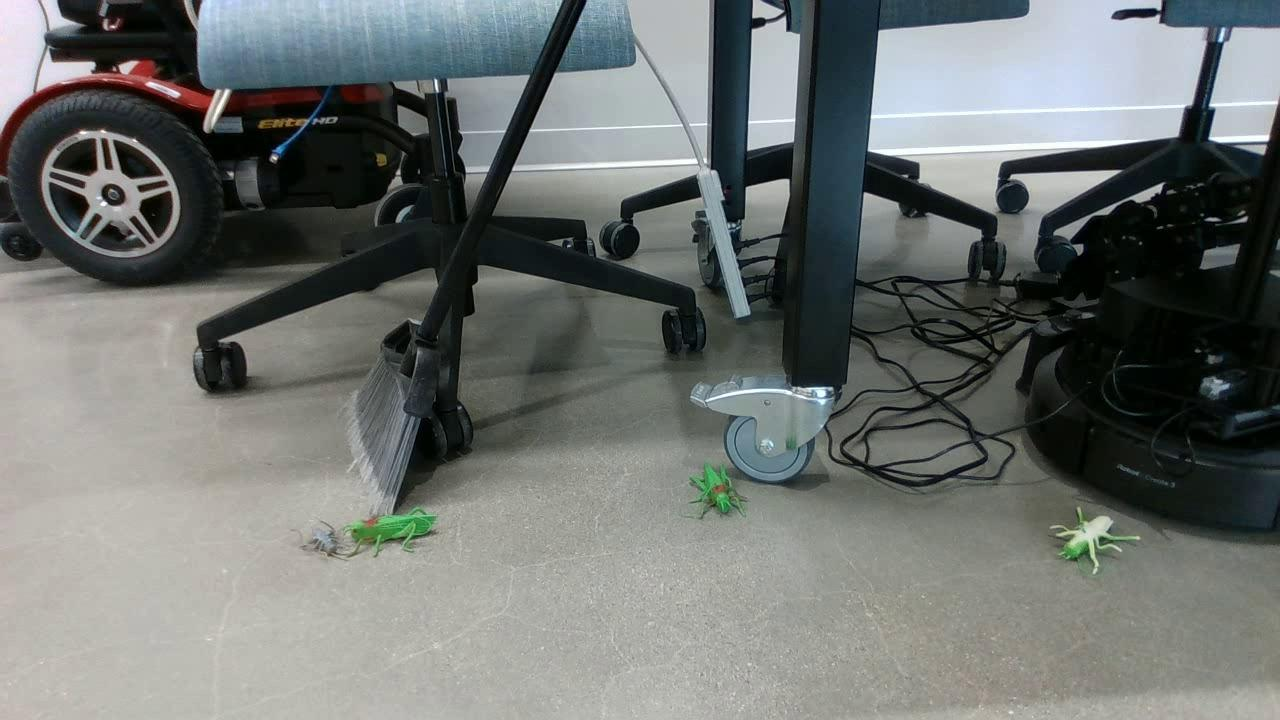grasshopper: (1050, 509, 1142, 576), (350, 507, 437, 554), (682, 465, 751, 516)
